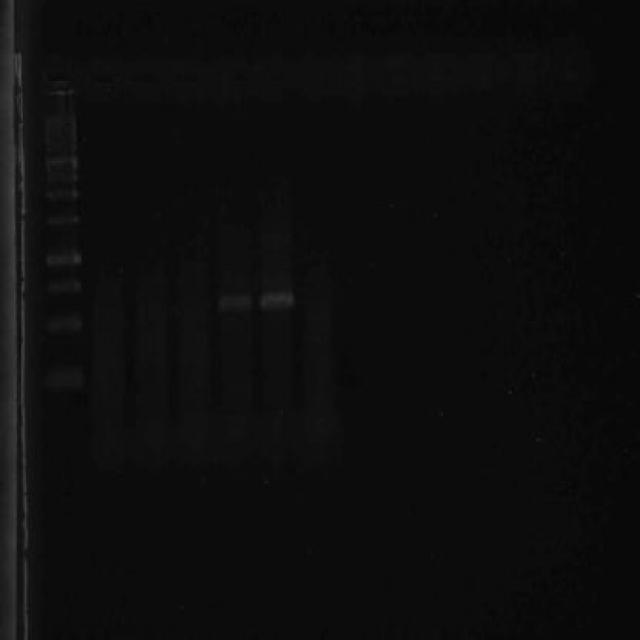B: (256, 287, 296, 313), (218, 291, 253, 314)
L: (24, 38, 612, 112)
M: (30, 138, 93, 407)
P: (40, 360, 86, 392), (41, 312, 84, 334), (42, 248, 82, 269), (44, 274, 82, 296), (44, 210, 80, 230), (42, 184, 80, 202), (42, 153, 78, 170), (44, 170, 80, 184)
Pc: (208, 53, 247, 107), (250, 50, 288, 104), (125, 55, 162, 103), (80, 58, 118, 102), (168, 56, 202, 99), (40, 63, 77, 100)
